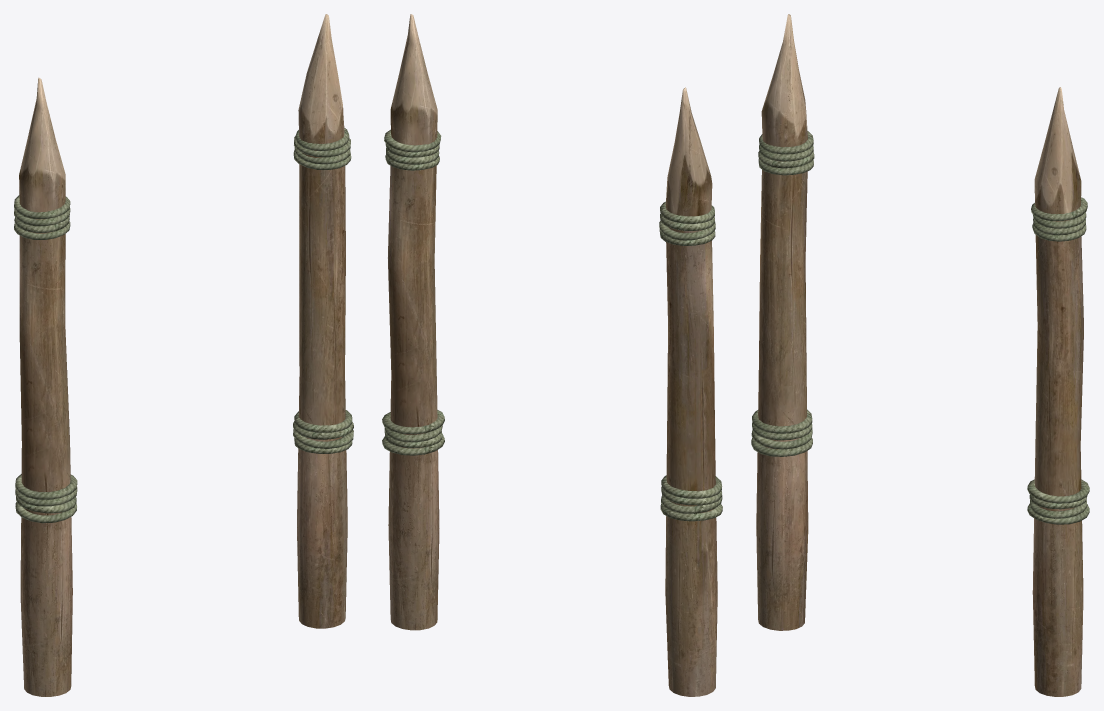
3 renders of one model, left to right at view 1: azimuth 30°, elevation 25°; view 2: azimuth 150°, elevation 25°; view 3: azimuth 330°, elevation 25°, orthographic.
Visible parts, largest first — view 1: SM_BB_T2_Pallisades_Gate_LOD0; view 2: SM_BB_T2_Pallisades_Gate_LOD0; view 3: SM_BB_T2_Pallisades_Gate_LOD0.
Part boxes in pixels (x1,y1,x2,y2): SM_BB_T2_Pallisades_Gate_LOD0: [14, 14, 353, 696]; SM_BB_T2_Pallisades_Gate_LOD0: [382, 14, 722, 696]; SM_BB_T2_Pallisades_Gate_LOD0: [751, 14, 1089, 696].
Size of the model in its own units: 3.1 by 5.42 by 0.5458.
Materials: 1 (1 with a texture image).
